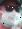with_mask: (1, 2, 22, 29)
